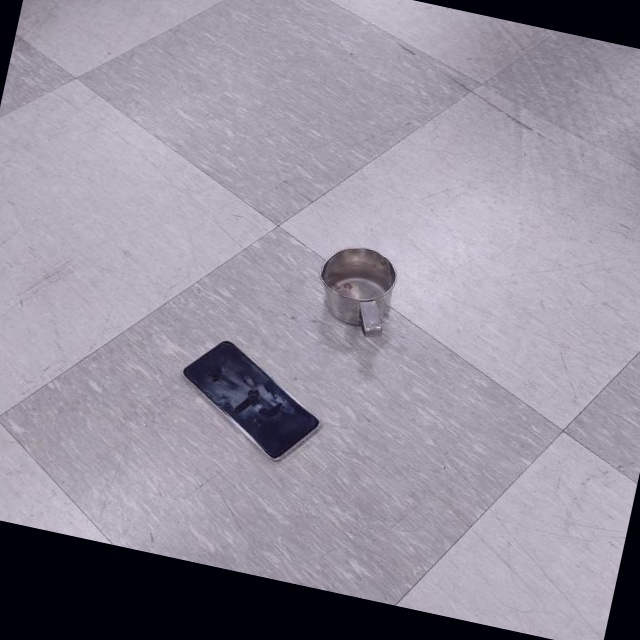cup: (306, 238, 406, 343)
phone: (169, 332, 332, 467)
